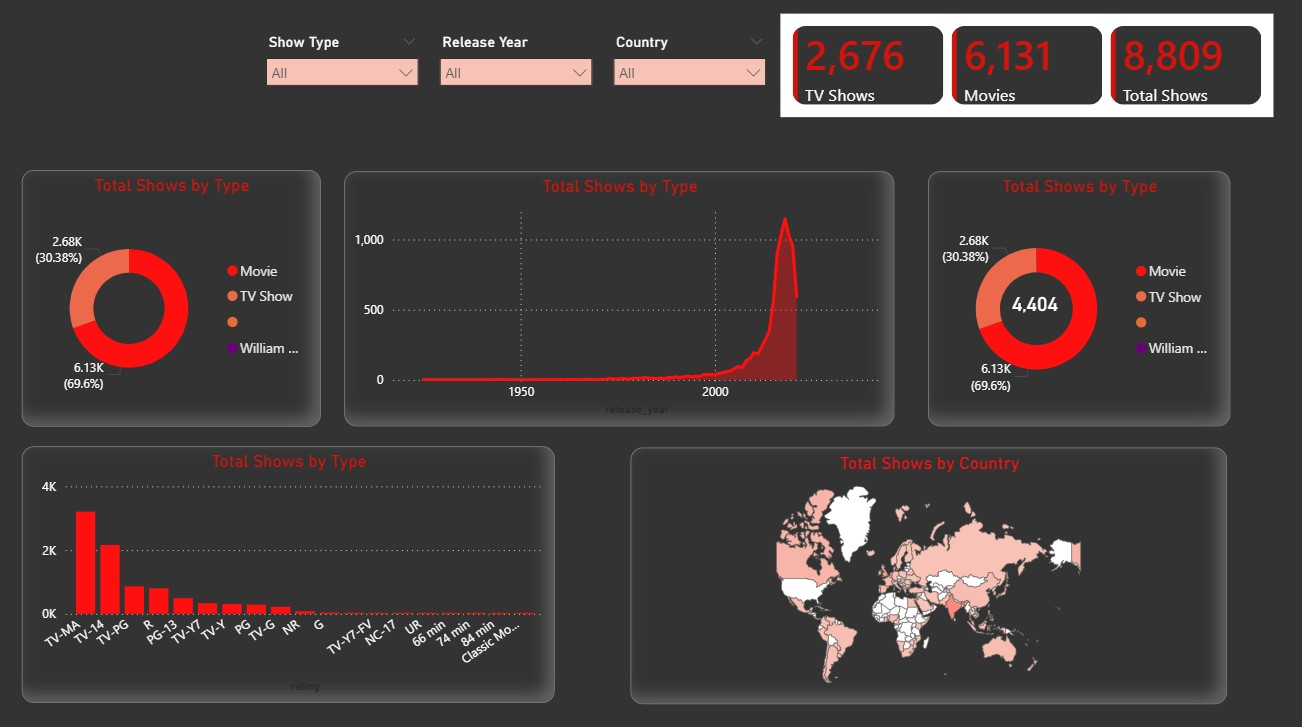

Layout of this report page (visuals, bound fields, positions):
{"tool":"powerbi","page":{"name":"Page 1","canvas":[1280,720],"ordinal":0},"visuals":[{"type":"cardVisual","fields":{"Data":["Measure_.TV Shows","Measure_.Movies","Measure_.Total Shows"]},"box":[763.3,13.3,495,111.7],"z":0},{"type":"donutChart","title":"Total Shows by Type","fields":{"Category":["netflix_titles.type"],"Y":["CountNonNull(netflix_titles.show_id)"]},"box":[23.3,171.7,293.3,251.7],"z":1000},{"type":"areaChart","title":"Total Shows by Type","fields":{"Category":["netflix_titles.release_year"],"Y":["CountNonNull(netflix_titles.show_id)"]},"box":[340,173.3,540,250],"z":2000},{"type":"donutChart","title":"Total Shows by Type","fields":{"Category":["netflix_titles.type"],"Y":["CountNonNull(netflix_titles.DirectorsNew)"]},"box":[913.3,173.3,296.7,250],"z":3000},{"type":"card","fields":{"Values":["Measure_.Total Directors"]},"box":[973.3,246.7,90,113.3],"z":4000},{"type":"columnChart","title":"Total Shows by Type","fields":{"Category":["netflix_titles.rating"],"Y":["CountNonNull(netflix_titles.show_id)"]},"box":[23.3,443.3,523.3,251.7],"z":5000},{"type":"shapeMap","title":"Total Shows by Country","fields":{"Category":["netflix_titles.CountryNew"],"Value":["CountNonNull(netflix_titles.show_id)"]},"box":[621.1,443.7,585.9,252.1],"z":6000},{"type":"slicer","fields":{"Values":["netflix_titles.type"]},"box":[253.3,33.3,170,70],"z":6001},{"type":"slicer","fields":{"Values":["netflix_titles.release_year"]},"box":[423.3,33.3,170,73.3],"z":6002},{"type":"slicer","fields":{"Values":["netflix_titles.CountryNew"]},"box":[593.3,33.3,170,70],"z":6003}]}

Visuals, with their boxes in screenshot pixels (x1, y1, x2, y2), scaled from the page's 1280x720 canvas onto the 1302x727 screenshot:
cardVisual - Measure_.TV Shows x Measure_.Movies: (776,13,1280,126)
"Total Shows by Type" donutChart: (24,173,322,428)
"Total Shows by Type" areaChart: (346,175,895,427)
"Total Shows by Type" donutChart: (929,175,1231,427)
card - Measure_.Total Directors: (990,249,1082,364)
"Total Shows by Type" columnChart: (24,448,556,702)
"Total Shows by Country" shapeMap: (632,448,1228,703)
slicer - netflix_titles.type: (258,34,431,104)
slicer - netflix_titles.release_year: (431,34,603,108)
slicer - netflix_titles.CountryNew: (603,34,776,104)
